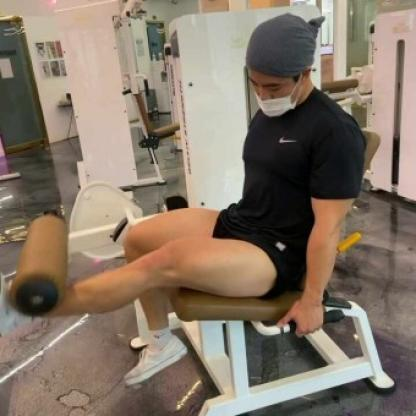leg extension: (9, 11, 396, 416)
